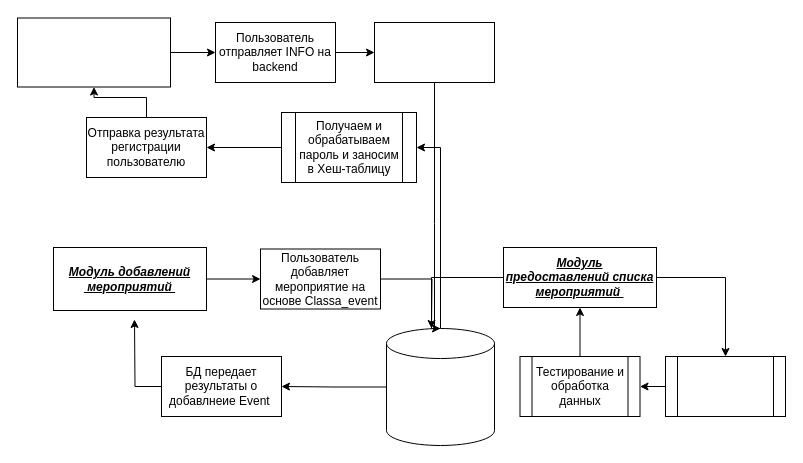
Some shapes in this 803 by 463 pixel diagram are drawn without their labels. Each missing label, with the centre of its shape:
База данных: the point at 440,387
Генерация и хеширование пароля и в БД: the point at 434,52
Делаем запрос в БД и получаем список мероприятий: the point at 725,386
Модуль регистрации пользователя: the point at 93,52
